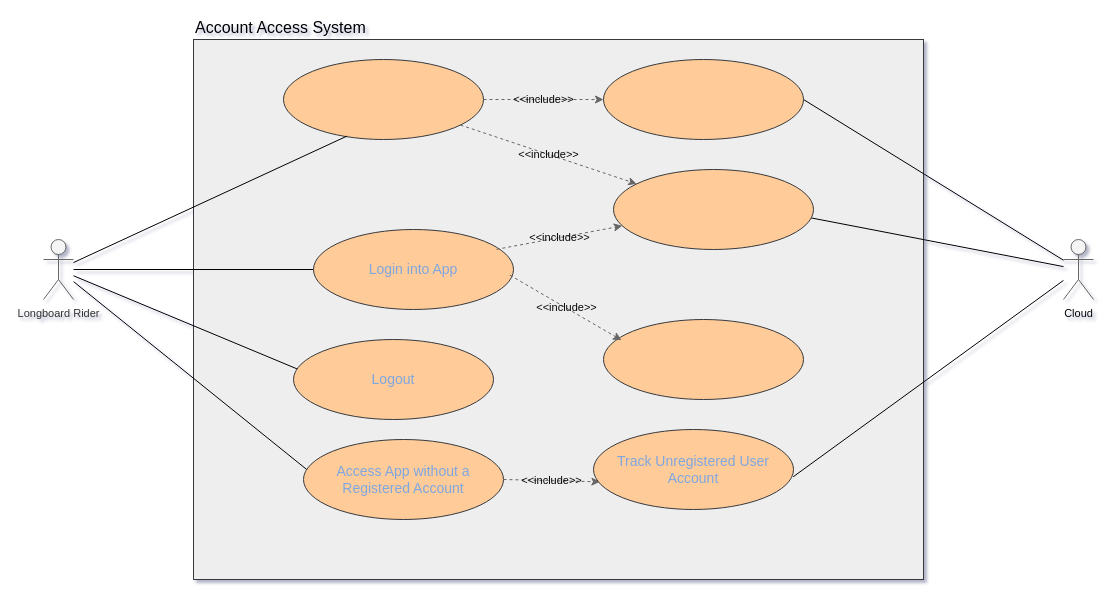
The diagram is 1117 pixels wide and 603 high, and some of its shapes have lost their labels. Here are the shapes that lost their labels. From the top down, the centre of each, then its label:
At point (383, 99): "Register new user account".
At point (703, 99): "Create New Login".
At point (713, 209): "Authenticate".
At point (703, 359): "Stay Logged In".
